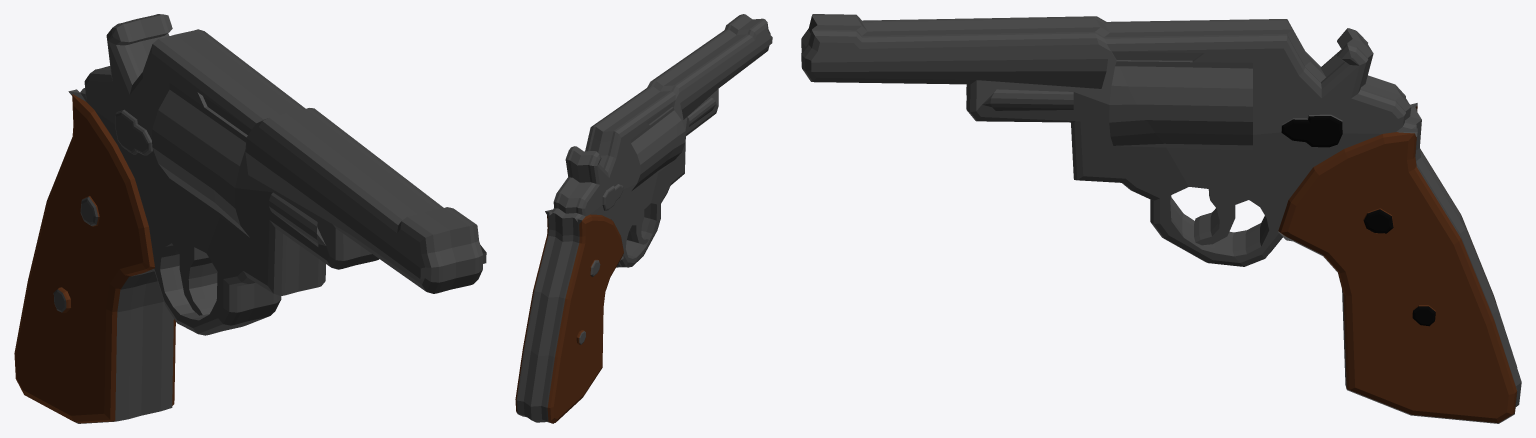
File: MiniPistol.fbx
3 renders of one model, left to right at view 1: azimuth 30°, elevation 25°; view 2: azimuth 150°, elevation 25°; view 3: azimuth 270°, elevation 25°, orthographic. The views are drawn at different scales.
Parts seen in each view (by area): view 1: Mini Pistol; view 2: Mini Pistol; view 3: Mini Pistol.
Part boxes in pixels (x1,y1,x2,y2): Mini Pistol: [14, 14, 486, 423]; Mini Pistol: [515, 14, 772, 423]; Mini Pistol: [801, 14, 1521, 423].
Bounding box in the file's own units: 8.24 × 38.98 × 64.98.
